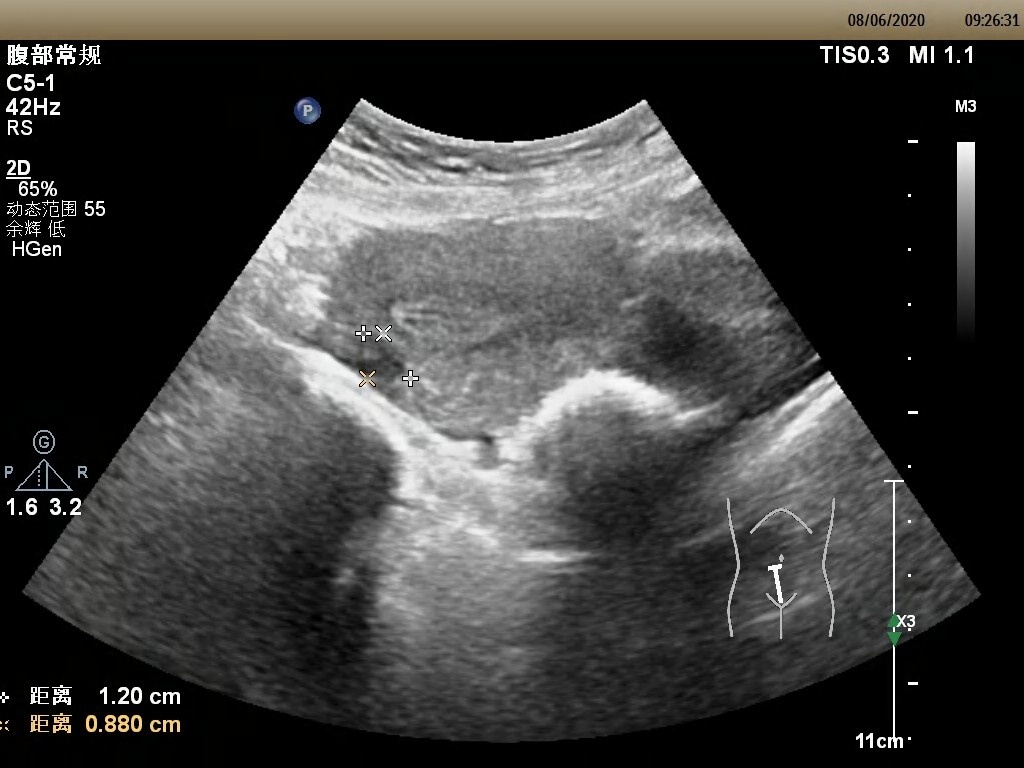肌瘤: (362, 331, 414, 382)
